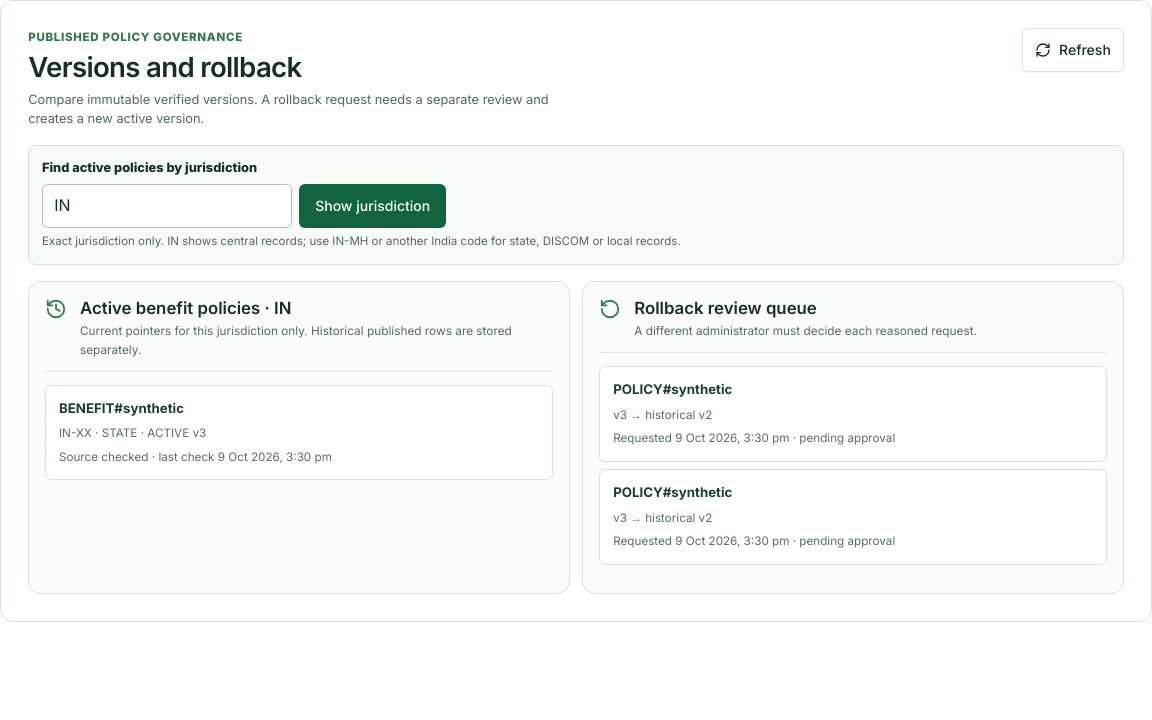
Test: published policy version console › never shows an old rollback detail after switching queue items
Click the 1st button "POLICY#synthetic" at x=673, y=389, box [599,366,1107,462]
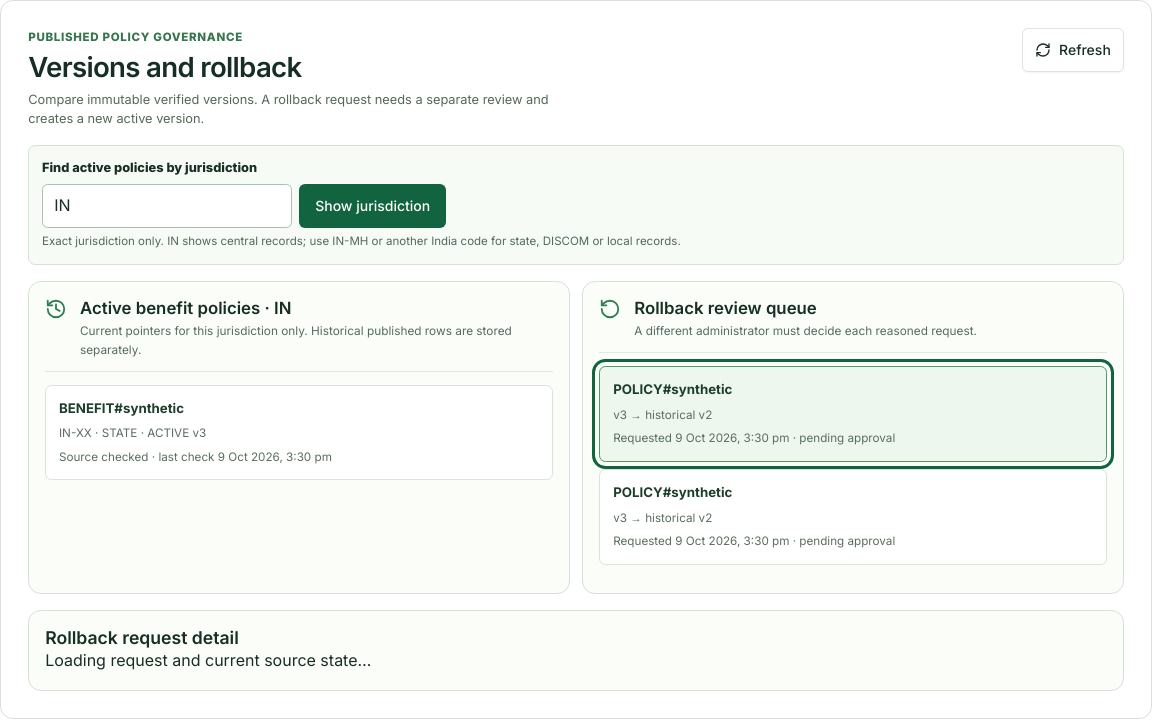
Click the 2nd button "POLICY#synthetic" at x=673, y=492, box [599,469,1107,564]
(page scrolled)
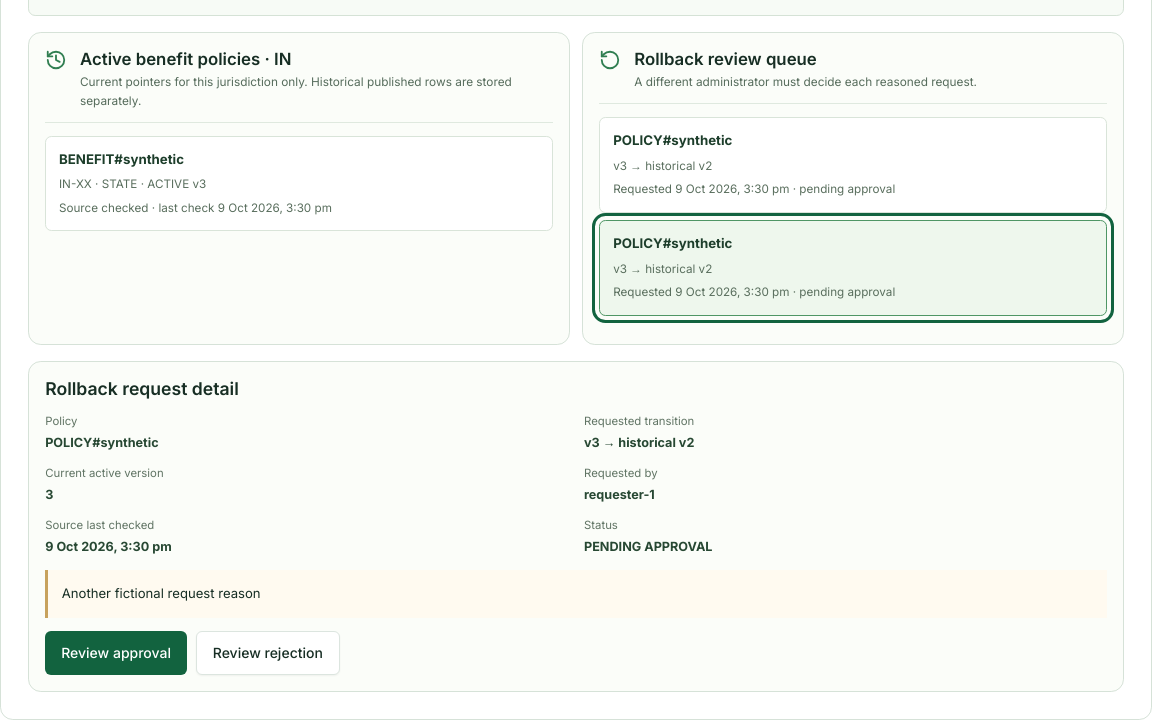
Check: the text "Another fictional request reason" is shown, box [45,570,1107,618]
